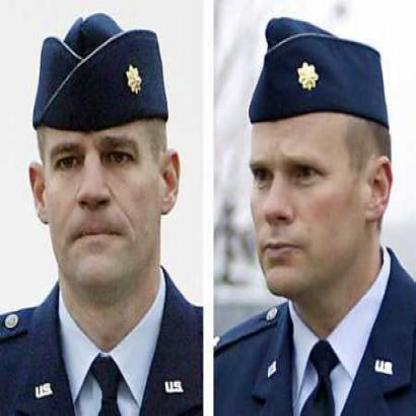face: (239, 46, 372, 310), (39, 39, 165, 295)
